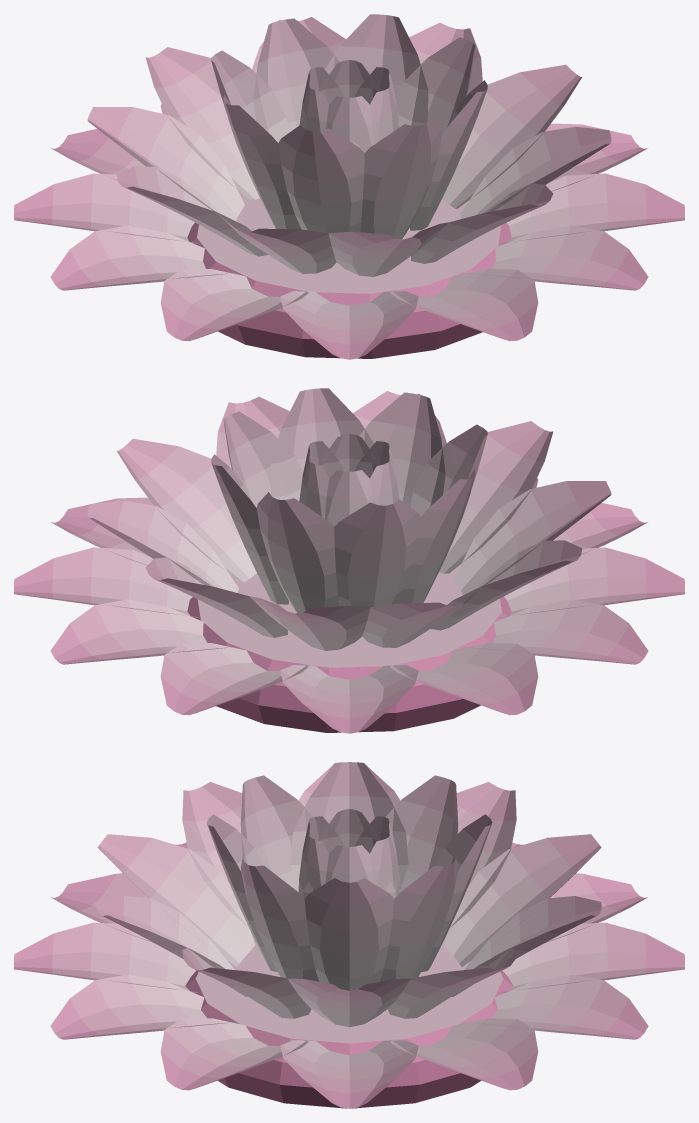
The model's file is tocado-victoria-regia.glb.
3 renders of one model, top to bottom at view 1: azimuth 30°, elevation 25°; view 2: azimuth 150°, elevation 25°; view 3: azimuth 270°, elevation 25°, orthographic.
Visible parts, largest first — view 1: tocado-victoria-regia; view 2: tocado-victoria-regia; view 3: tocado-victoria-regia.
Boxes of the visible parts, <box> form: tocado-victoria-regia: <box>14,14,684,359</box>; tocado-victoria-regia: <box>14,388,684,733</box>; tocado-victoria-regia: <box>14,762,684,1108</box>.
Size of the model in its own units: 0.785 by 0.279 by 0.785.
